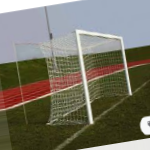goals: (40, 27, 134, 128)
